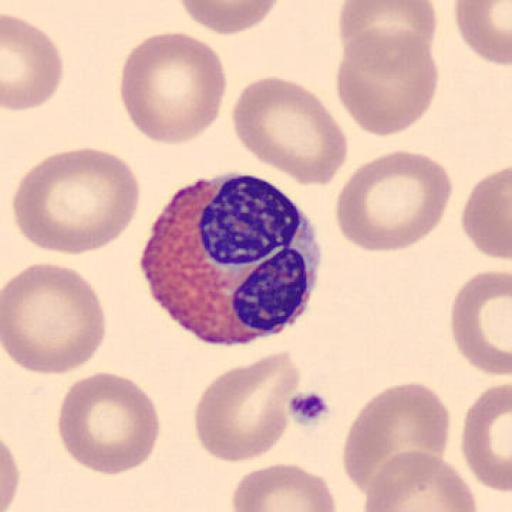RBC: (11, 145, 143, 257), (230, 74, 349, 188), (342, 382, 453, 500), (118, 30, 229, 146), (334, 148, 454, 254), (2, 260, 106, 376), (335, 28, 439, 138), (194, 351, 294, 464), (56, 370, 162, 476), (359, 448, 479, 512), (449, 268, 512, 377), (339, 0, 438, 68), (2, 12, 66, 112), (459, 380, 512, 494), (230, 461, 337, 512), (461, 164, 512, 262), (452, 0, 511, 66), (177, 0, 282, 37), (0, 436, 20, 512)
WBC: (138, 171, 323, 345)
